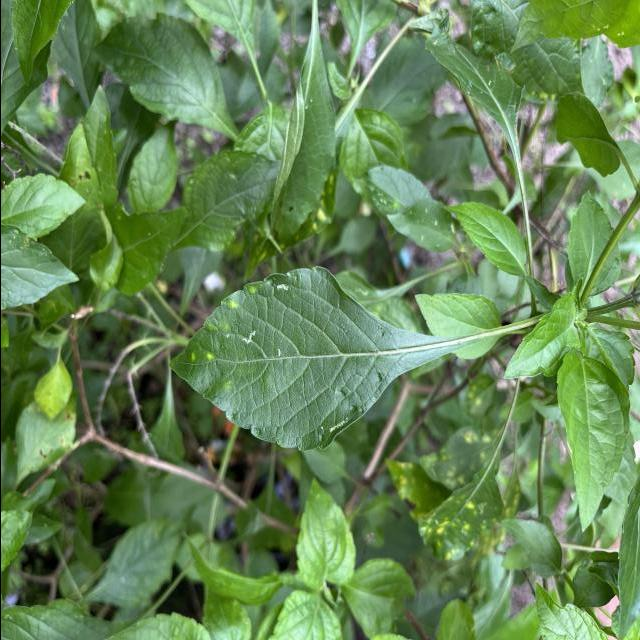Ocimum gratissimum: (162, 264, 538, 454), (552, 350, 634, 534)
